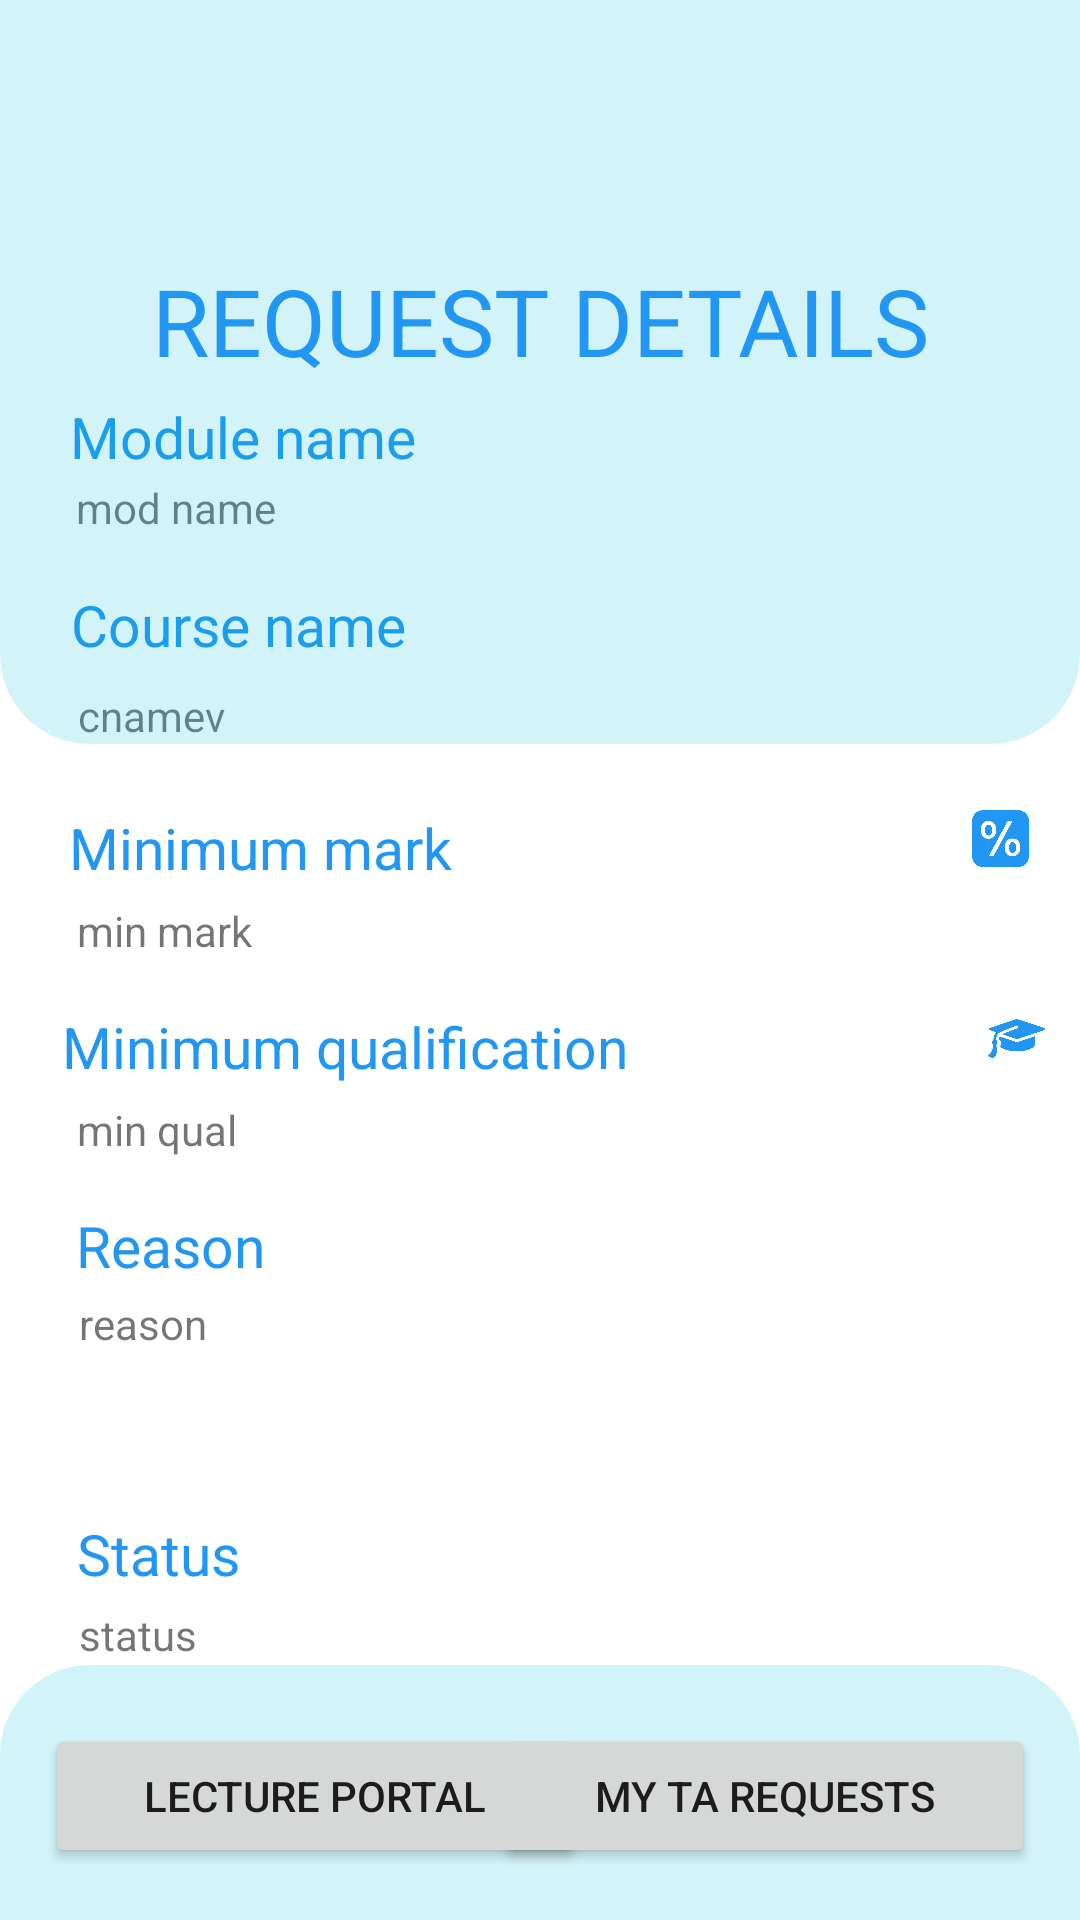

Screen size 1080px x 1920px. Icon name, then its center in pixels as (x=x, y=y):
graduation: (x=1016, y=1038)
percentage: (x=1000, y=838)
